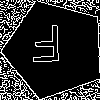F: (30, 24, 63, 72)
